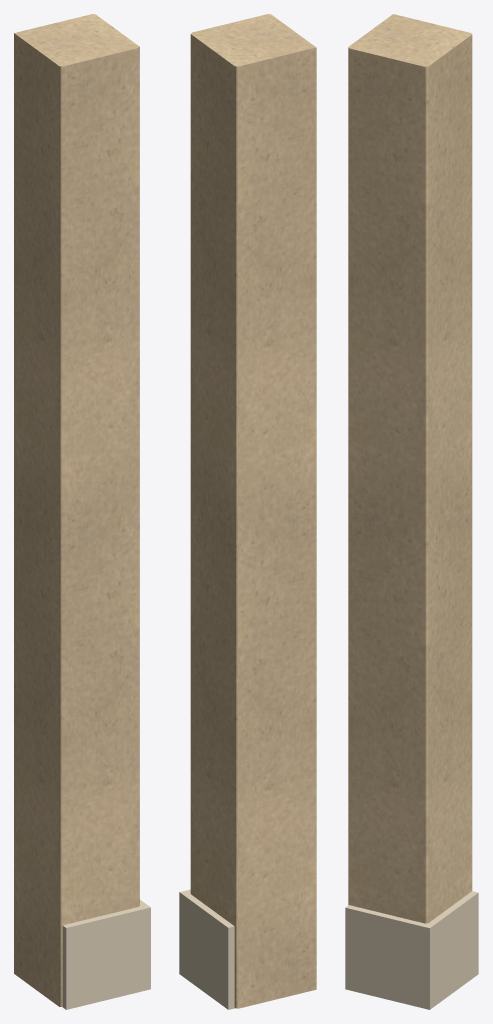
Rendered from corner_render.glb.
The picture shows the model from 3 angles, left to right: view 1: azimuth 30°, elevation 25°; view 2: azimuth 210°, elevation 25°; view 3: azimuth 330°, elevation 25°; orthographic projection.
Visible parts, largest first — view 1: corner_render_render, corner_render_band; view 2: corner_render_render, corner_render_band; view 3: corner_render_render, corner_render_band.
Part boxes in pixels (bbox=[...]): corner_render_render: bbox=[14, 14, 139, 1007]; corner_render_band: bbox=[62, 899, 150, 1009]; corner_render_render: bbox=[190, 14, 316, 1008]; corner_render_band: bbox=[179, 889, 234, 1009]; corner_render_render: bbox=[348, 14, 472, 923]; corner_render_band: bbox=[345, 891, 478, 1009].
Size of the model in its own units: 0.41 by 4.25 by 0.41.
Materials: 2 (1 with a texture image).
